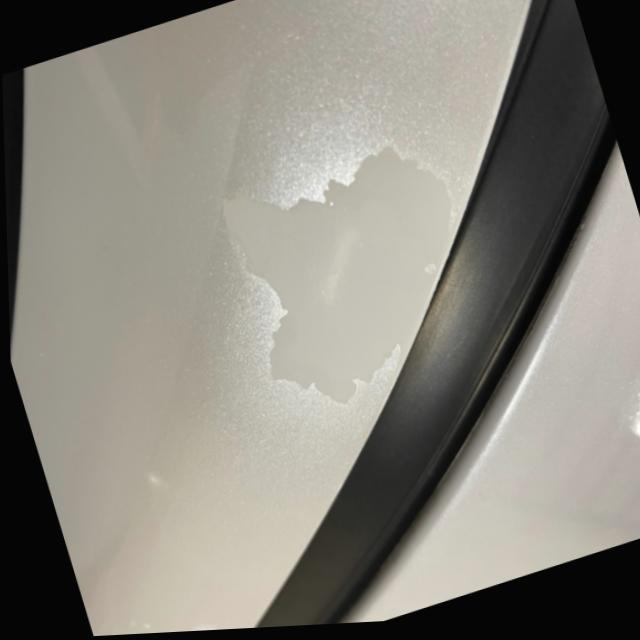Paint-fading: (206, 143, 464, 413)
